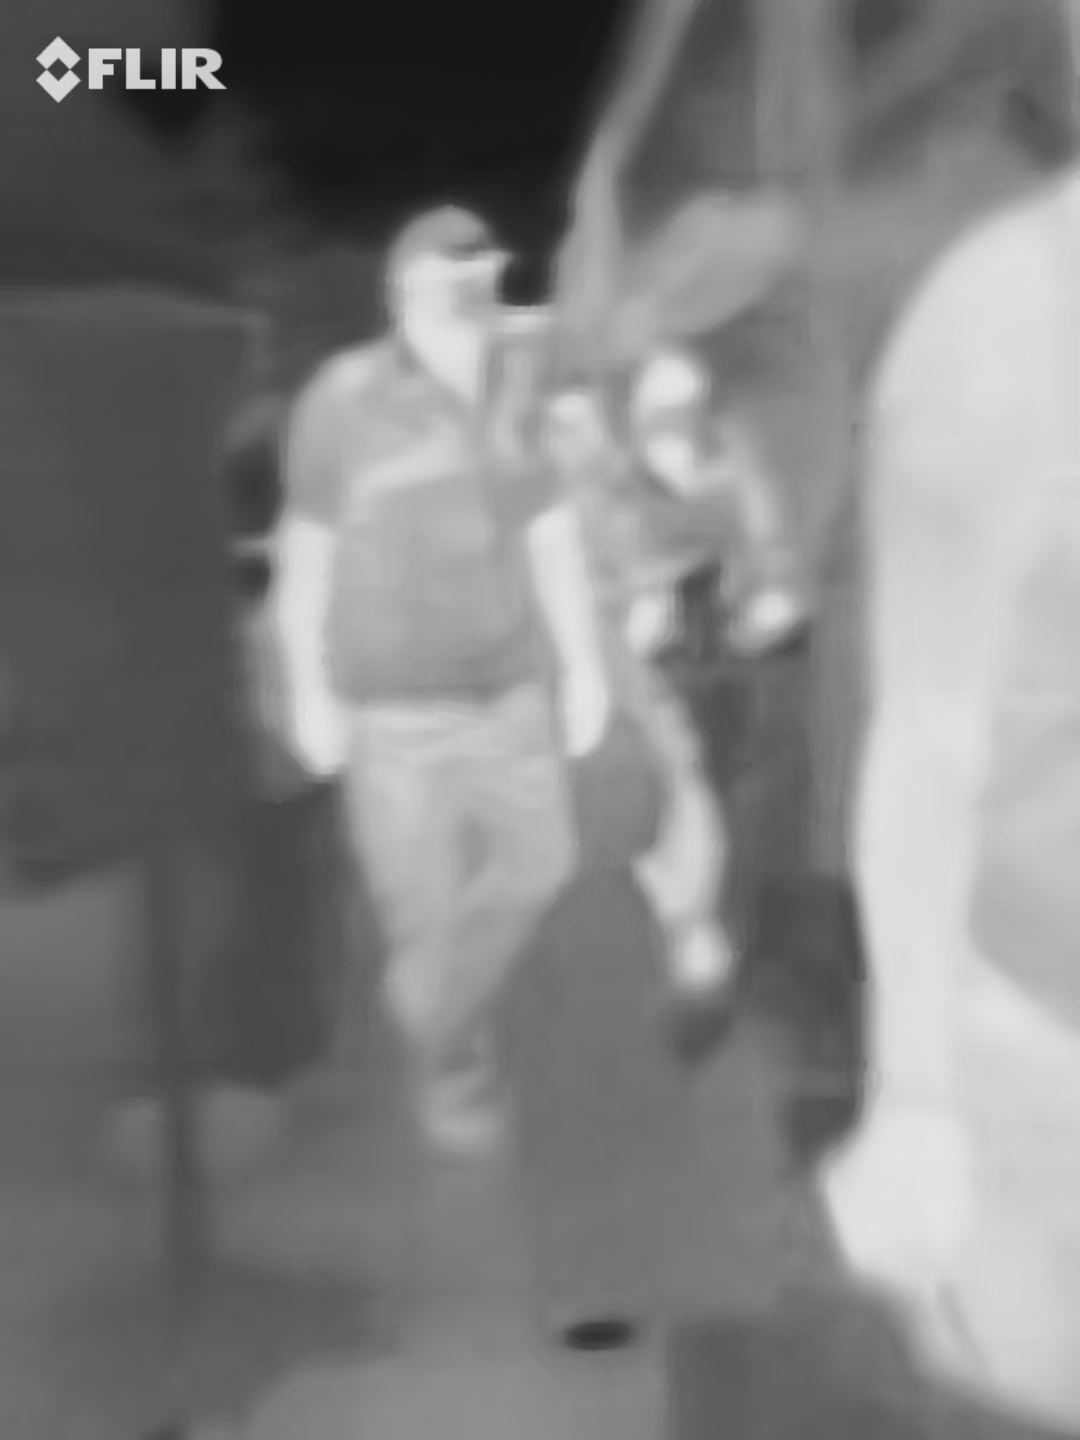head: (373, 200, 512, 365)
